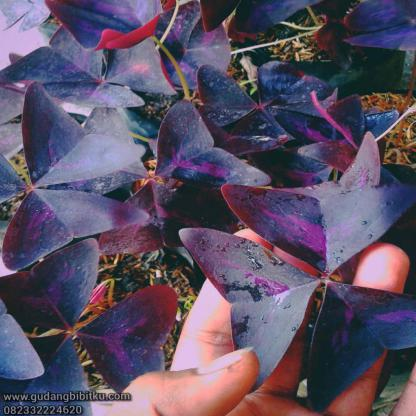Kupu-Kupu: (220, 206, 416, 392), (6, 263, 168, 394), (1, 120, 147, 247)
